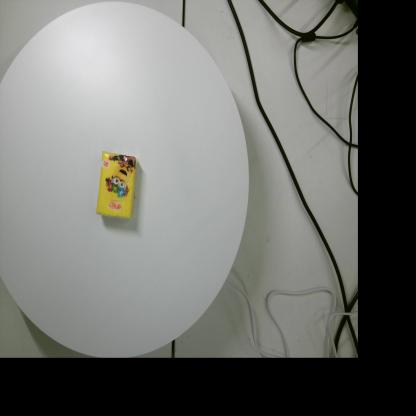Tissue: (96, 151, 138, 219)
